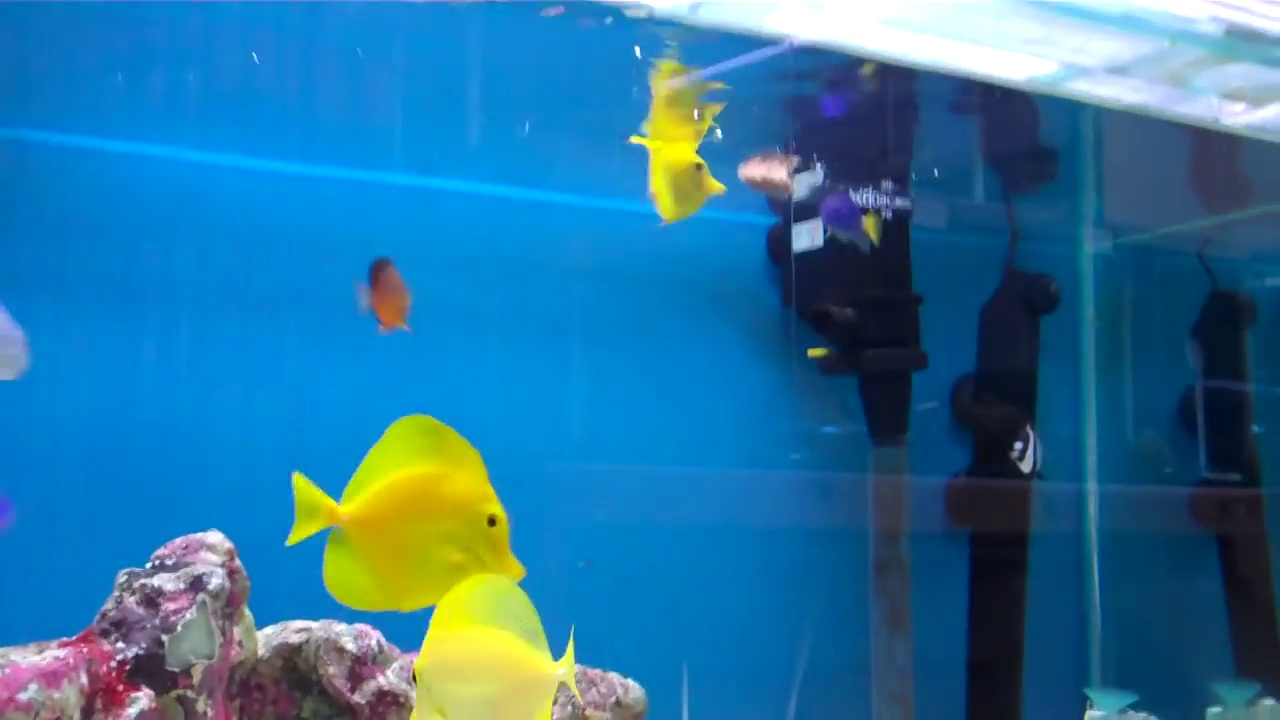saddle butterfly fish: (281, 414, 529, 622), (392, 573, 597, 720), (616, 129, 727, 225)
